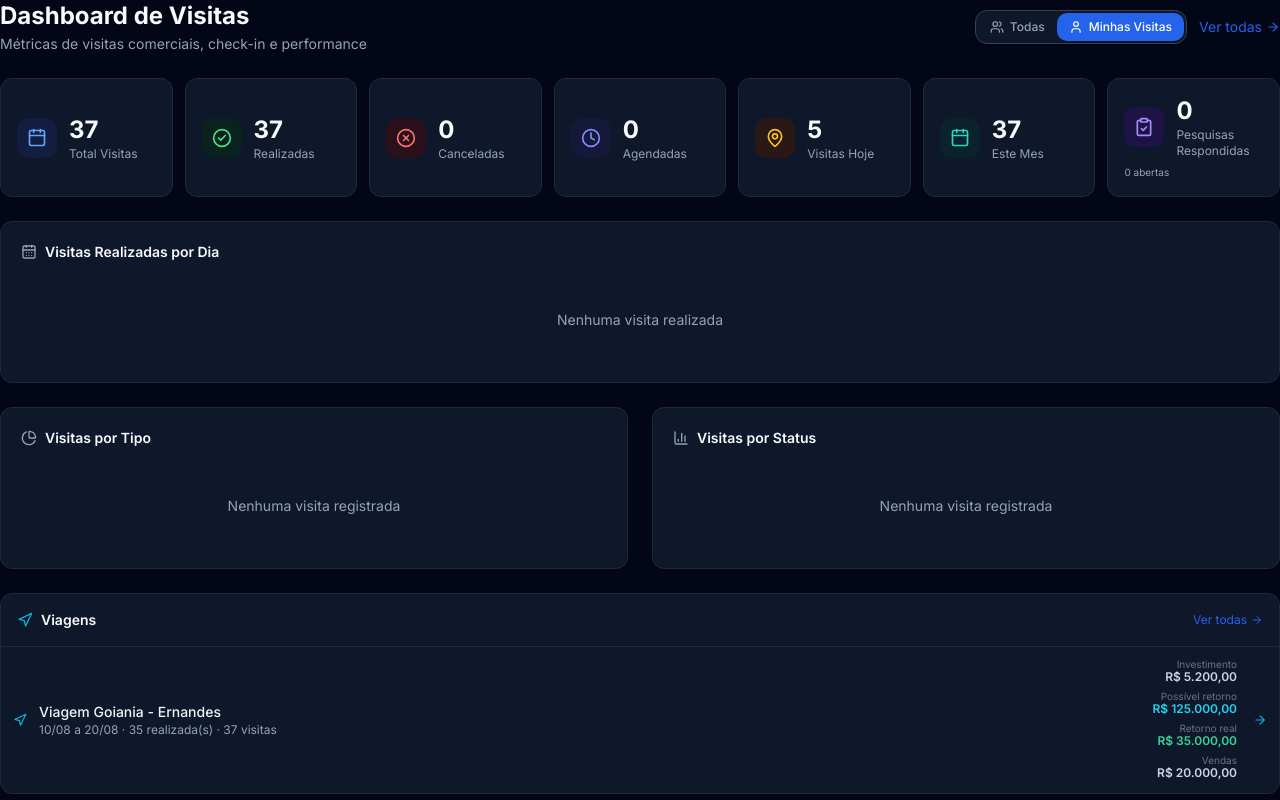
Test: VisitasDashboardPage › fecha o cronograma ao clicar no botão Fechar
Step 1. Click the button "Viagem Goiania - Ernandes" → (640, 720), box [1, 647, 1279, 793]
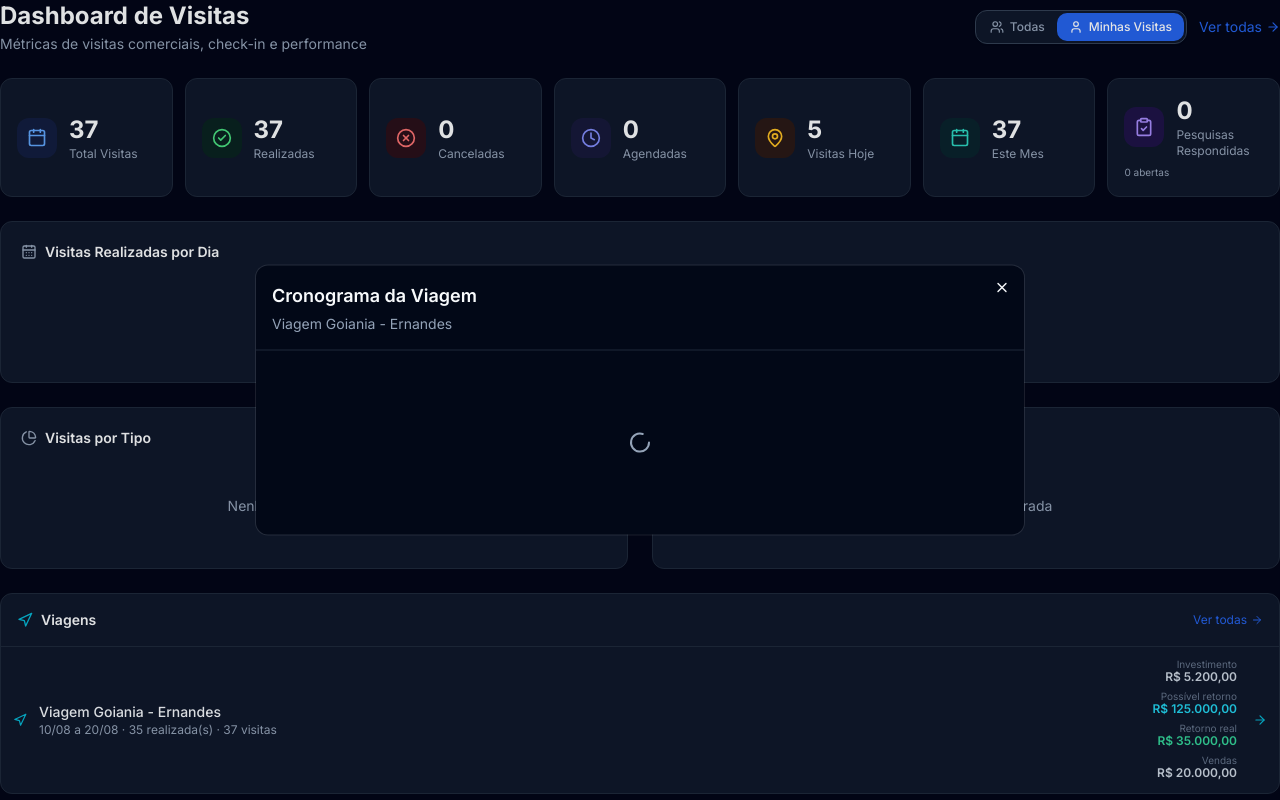
Step 2. Click the button named "Fechar" → (1002, 288), box [988, 274, 1016, 302]
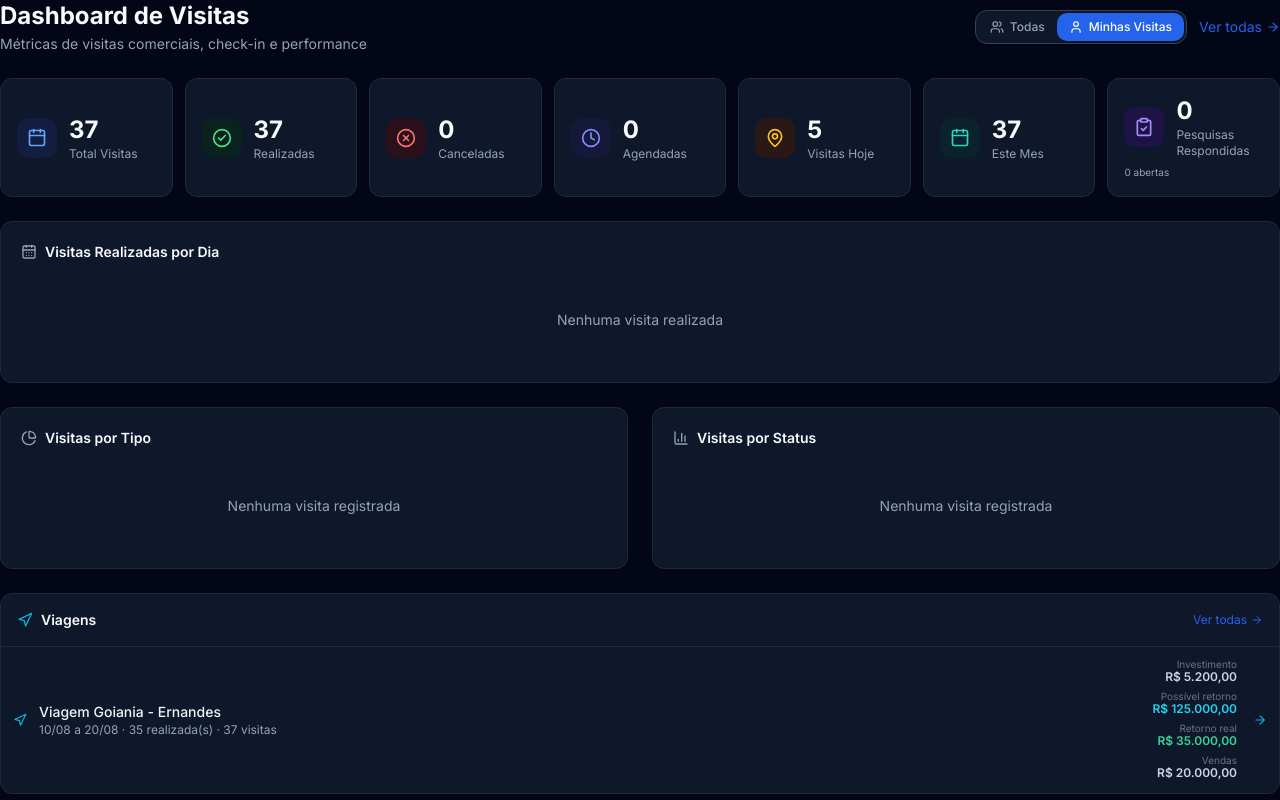
Now the heading "Cronograma da Viagem" is gone
